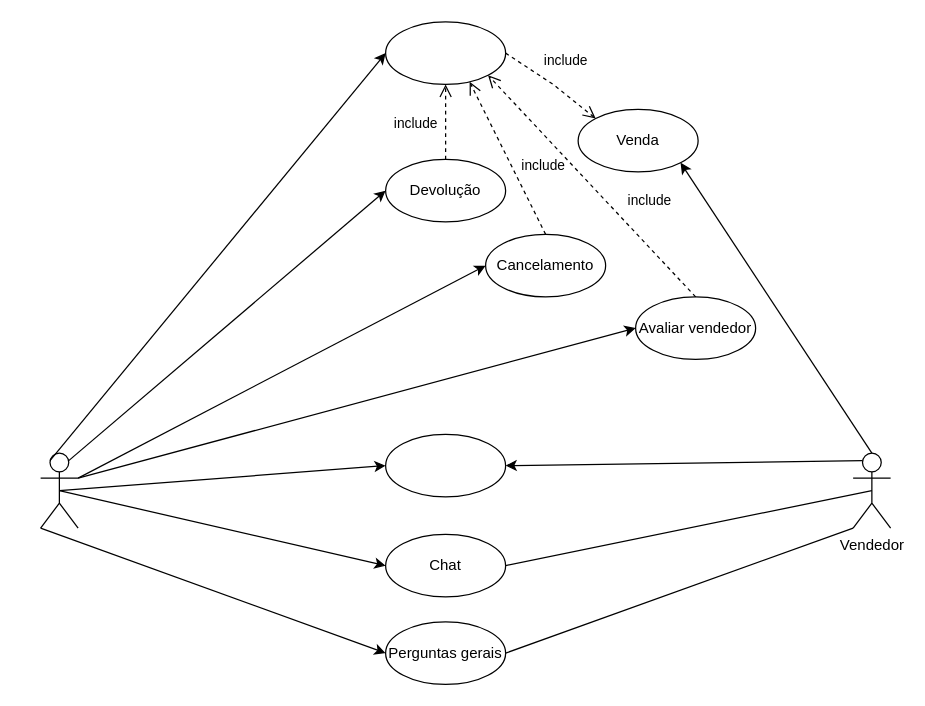
The diagram is 925 pixels wide and 706 high, and some of its shapes have lost their labels. Each missing label, with the centre of its shape:
Cadastro: the point at 445,465
Compra: the point at 445,52
Comprador: the point at 58,490
